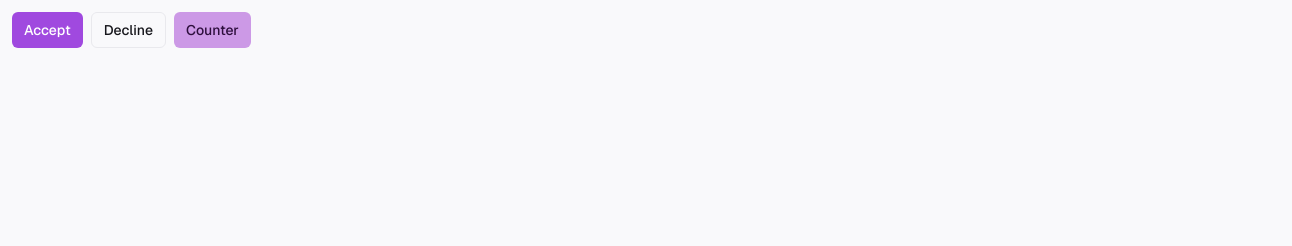
Test: ProposalActions › restores controls when accept rejects unexpectedly
Click the button "Accept". click: (47, 30)
box: [12,12,83,48]
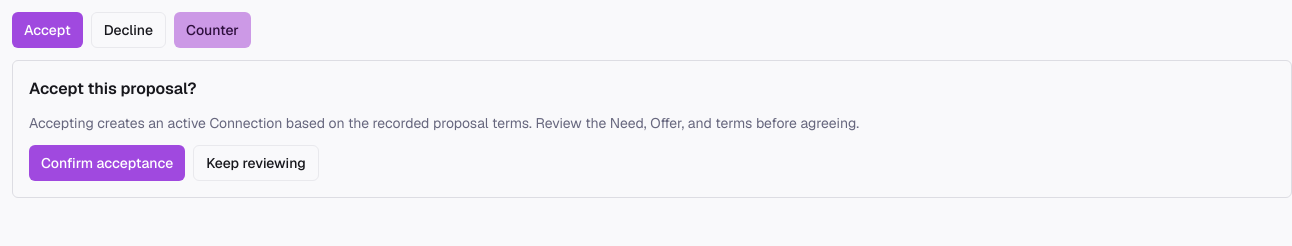
Click the button "Confirm acceptance". click: (107, 163)
box: [29,145,185,181]
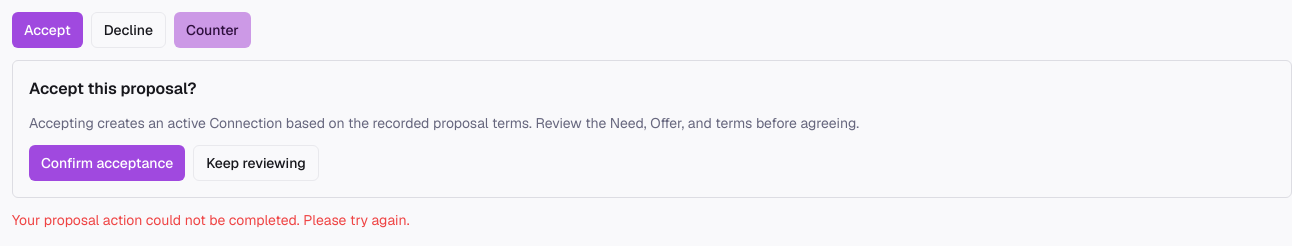
Check: the button "Accept" is enabled, box [12,12,83,48]
Check: the message reads "Your proposal action could not be completed. Please try again.", box [12,211,410,229]
